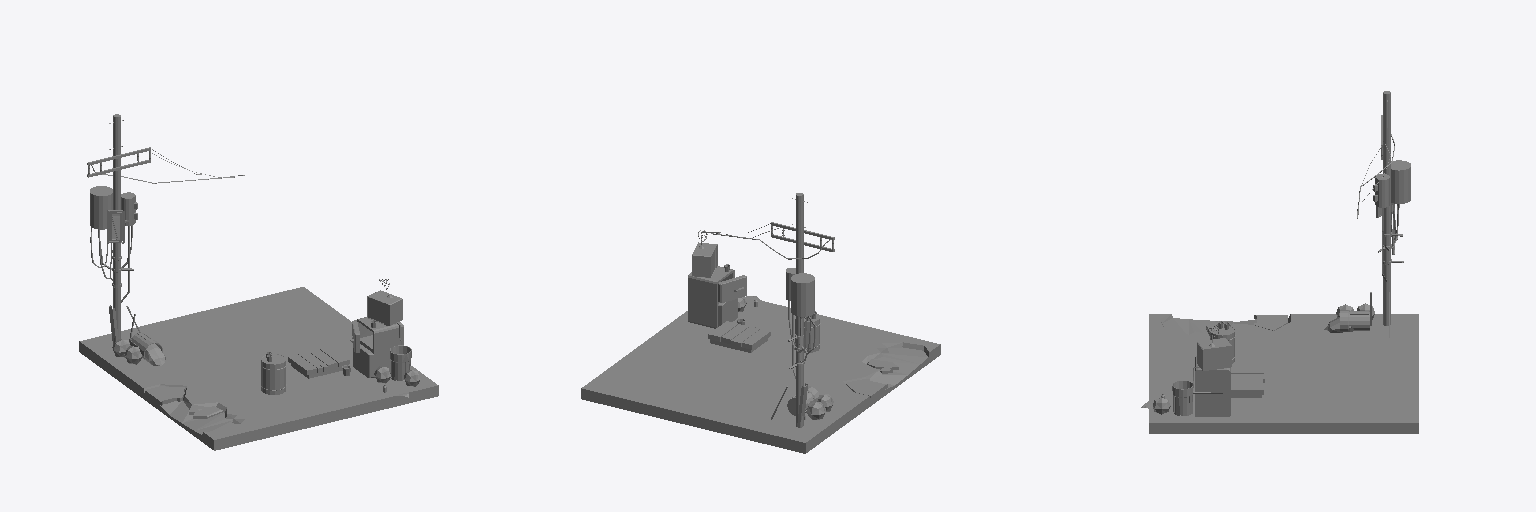
The model's file is HouseCar2.obj.
The picture shows the model from 3 angles: view 1: azimuth 30°, elevation 25°; view 2: azimuth 150°, elevation 25°; view 3: azimuth 270°, elevation 25°; orthographic projection.
Parts seen in each view (by area): view 1: Box002; view 2: Box002; view 3: Box002.
Boxes of the visible parts, x1,y1,x2,y2 form: Box002: [79, 114, 438, 450]; Box002: [581, 193, 940, 453]; Box002: [1141, 91, 1418, 433].
Size of the model in its own units: 509 by 505 by 523.